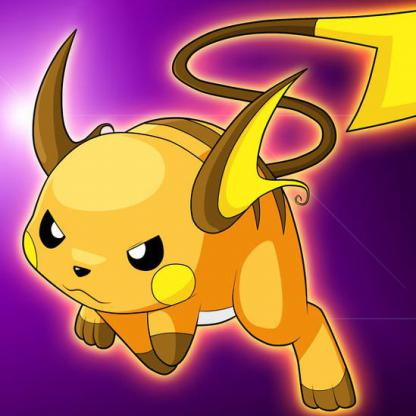Raichu: (1, 65, 416, 416)
